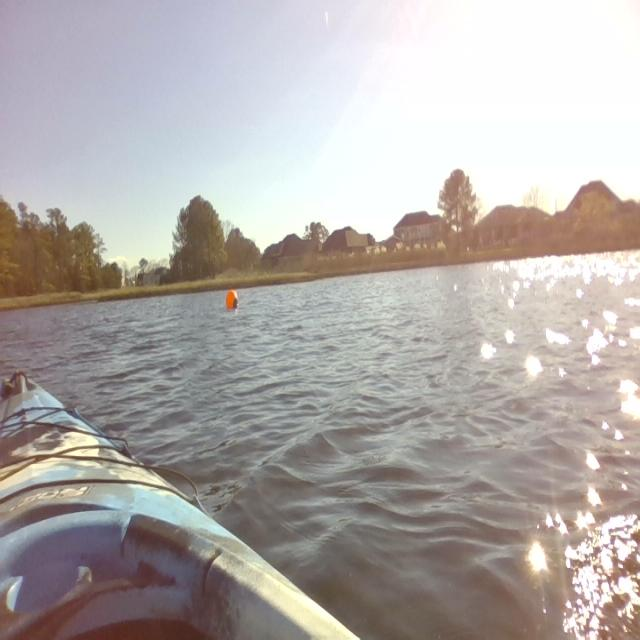Buoy: (222, 282, 245, 316)
